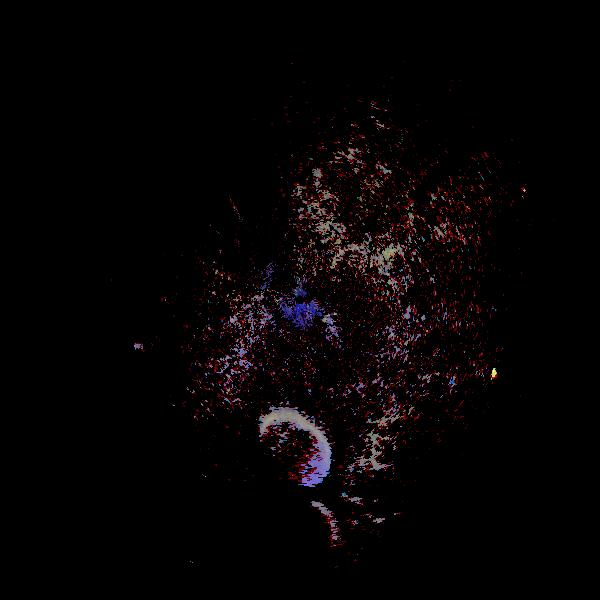roost: (237, 399, 345, 507)
